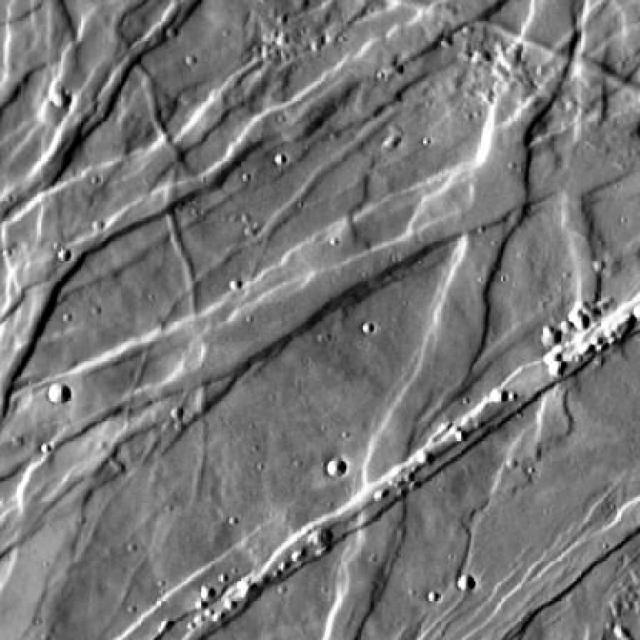crater: (48, 384, 70, 405), (326, 456, 346, 475), (627, 127, 640, 150), (460, 576, 477, 592), (52, 91, 70, 106)
